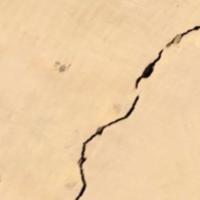crack: (54, 12, 199, 199)
